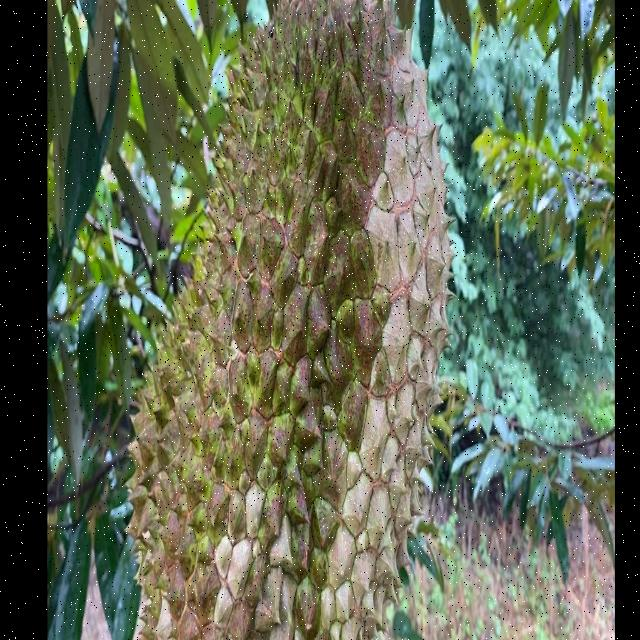RIPE: (126, 0, 455, 640)
